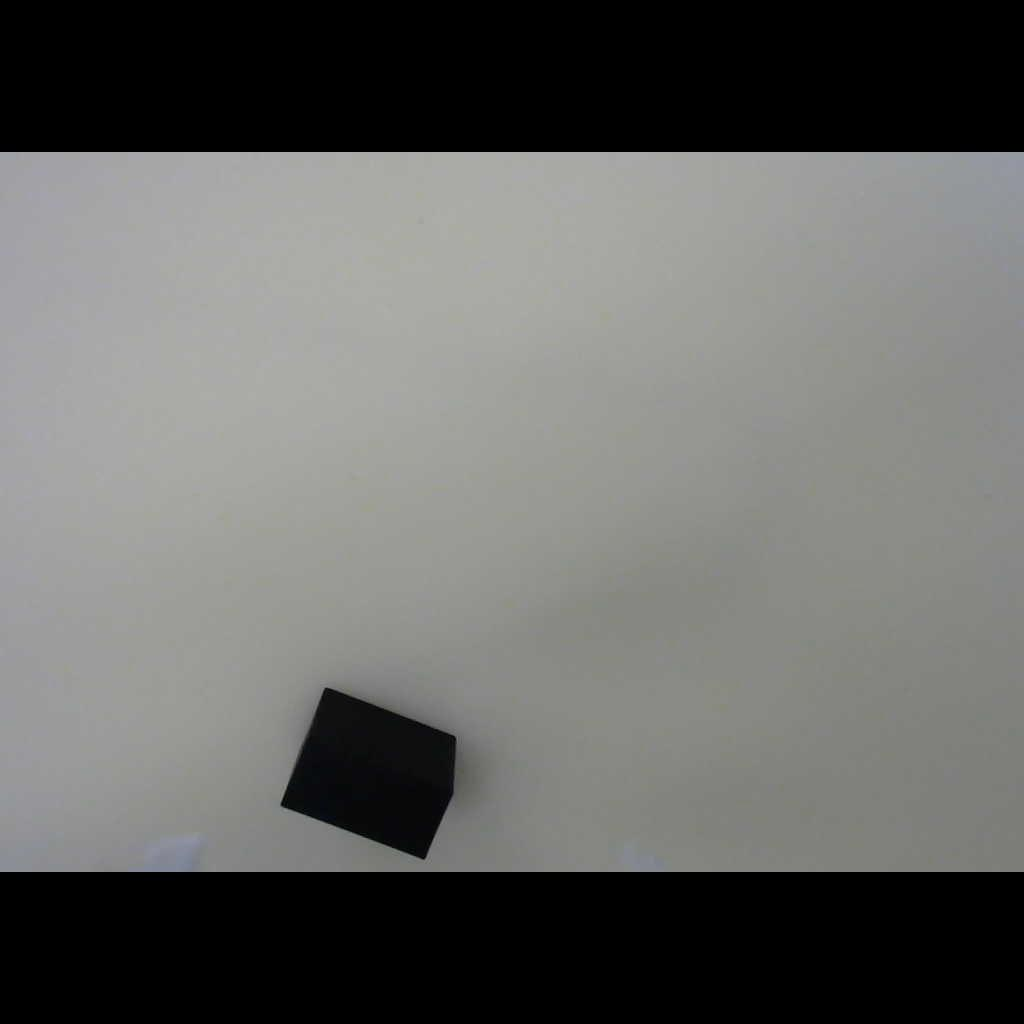rectangle: (267, 672, 483, 871)
